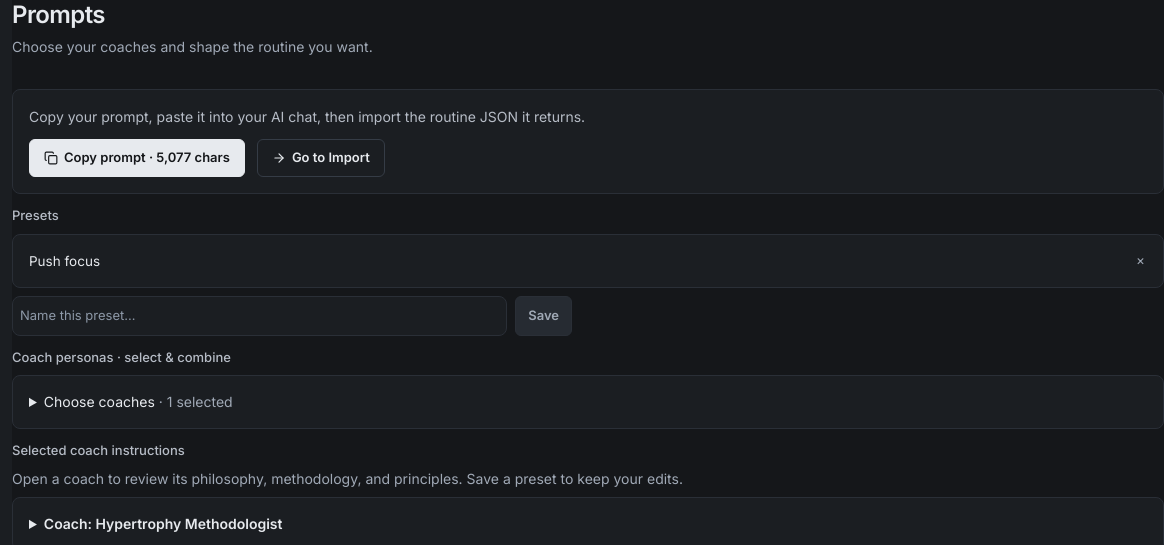
Test: PromptBuilderClient presets › field absent from preset defaults on
Click the text "Choose coaches" at x=99, y=402, box [44,393,155,410]
(page scrolled)
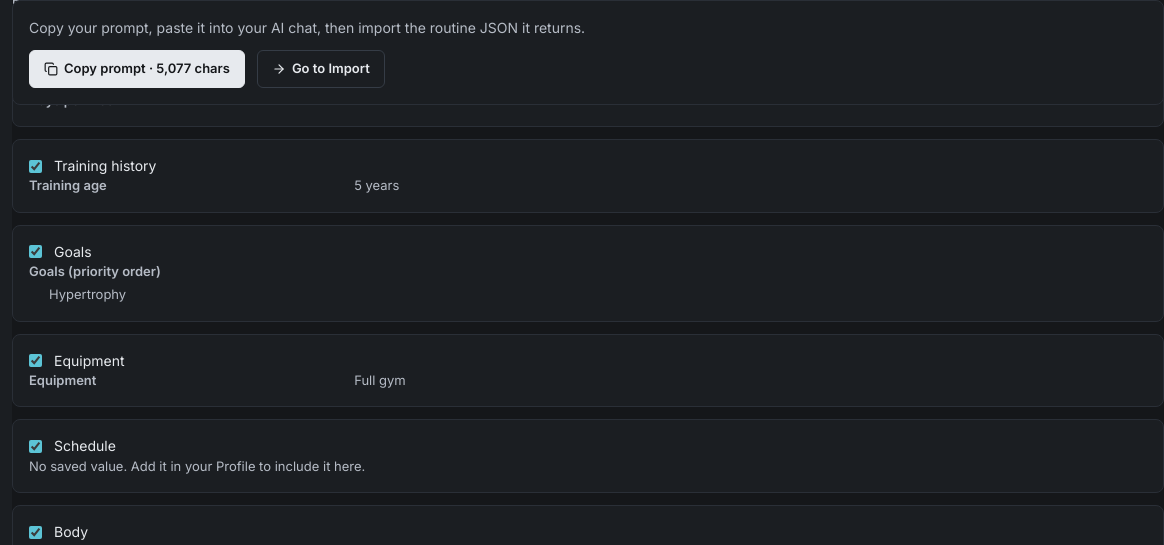
Click the checkbox labelled "Equipment" at x=36, y=361, box [29,354,42,367]
(page scrolled)
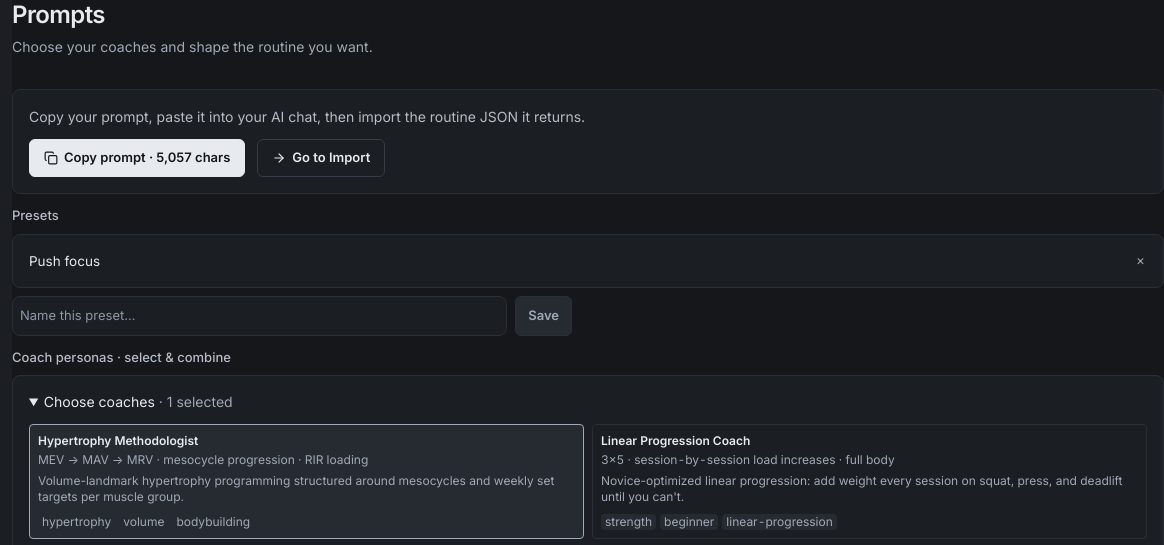
Expected: the text "Full gym" is gone
Click the button "Push focus" at x=65, y=260, box [29,250,1134,271]
(page scrolled)
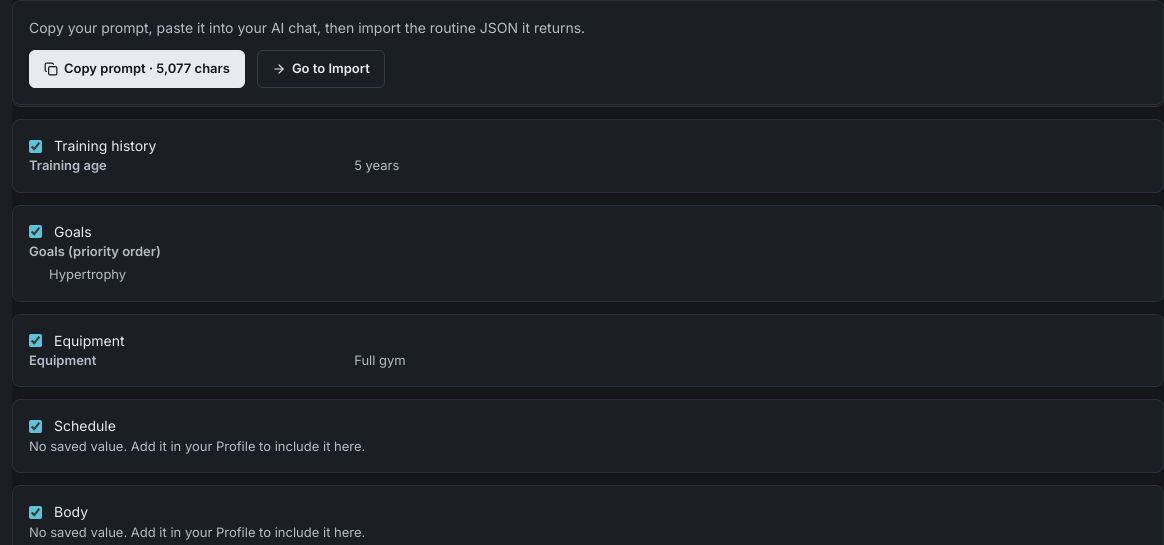
Expected: the text "Full gym" is shown, [354,352,406,368]
